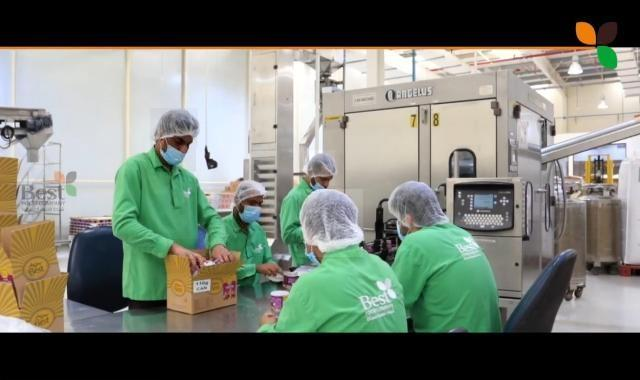gloves: (299, 190, 363, 258), (388, 180, 450, 232), (150, 108, 198, 148), (303, 150, 335, 186), (233, 180, 265, 210)
mask: (156, 138, 197, 172), (234, 196, 266, 231)
no_apron: (167, 240, 208, 274), (207, 236, 239, 276), (252, 256, 292, 285)
